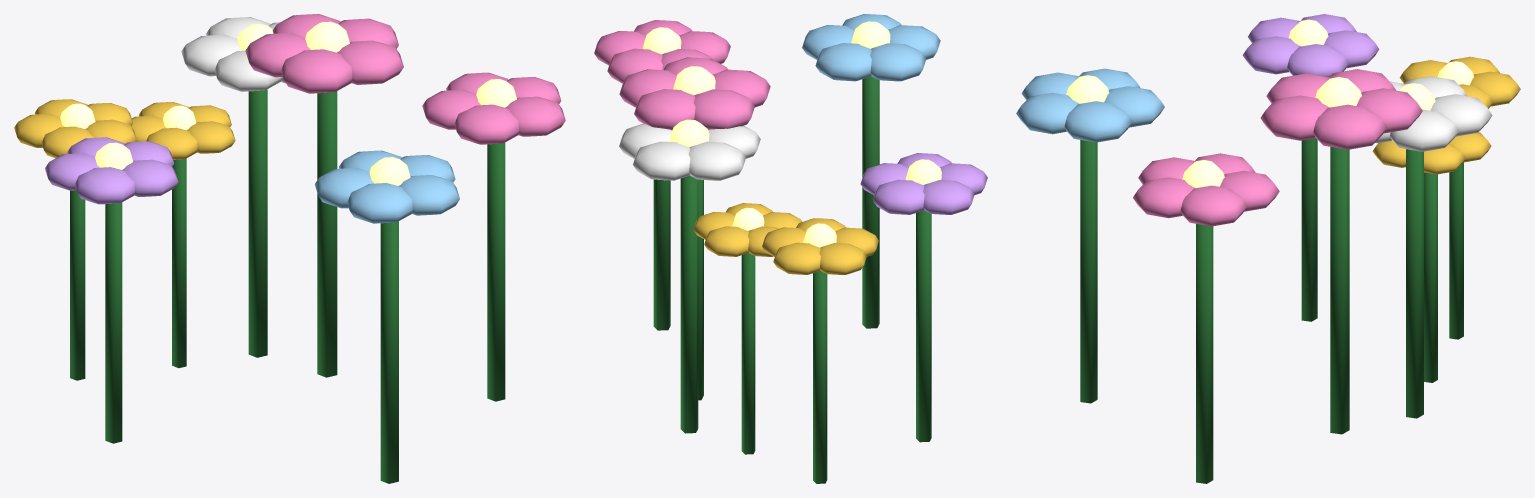
The model's file is les-kvetiny.glb.
3 renders of one model, left to right at view 1: azimuth 30°, elevation 25°; view 2: azimuth 150°, elevation 25°; view 3: azimuth 270°, elevation 25°, orthographic. The views are drawn at different scales.
Visible parts, largest first — view 1: kvetiny; view 2: kvetiny; view 3: kvetiny.
Part boxes in pixels (x1,y1,x2,y2): kvetiny: (14, 14, 565, 483); kvetiny: (594, 14, 987, 483); kvetiny: (1016, 14, 1520, 483).
Size of the model in its own units: 0.6683 by 0.4921 by 0.6414.
